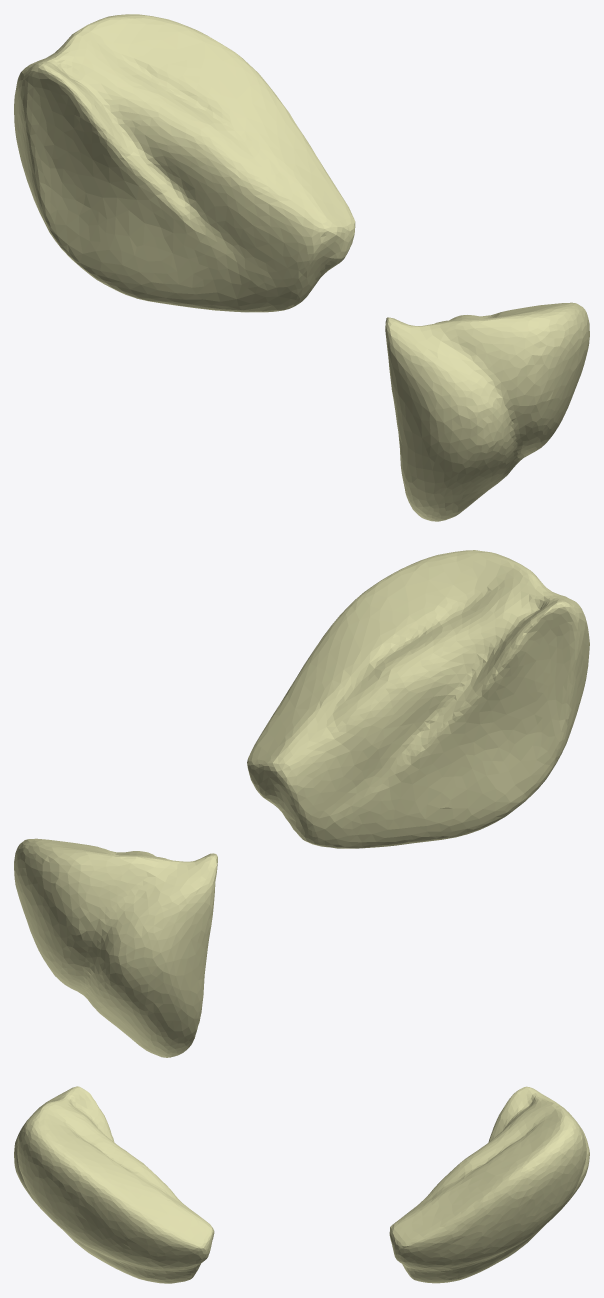
The picture shows the model from 3 angles, top to bottom: view 1: azimuth 30°, elevation 25°; view 2: azimuth 150°, elevation 25°; view 3: azimuth 270°, elevation 25°; orthographic projection. The views are drawn at different scales.
Visible parts, largest first — view 1: 1017.obj; view 2: 1017.obj; view 3: 1017.obj.
Boxes of the visible parts, x1,y1,x2,y2 form: 1017.obj: (14,14,589,521); 1017.obj: (14,550,589,1057); 1017.obj: (14,1086,589,1283).
Size of the model in its own units: 2509 by 2459 by 8354.
